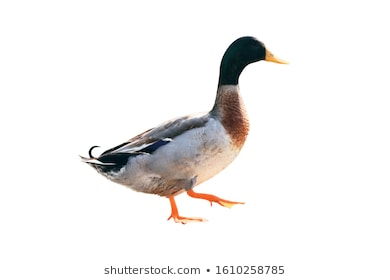duck: (60, 11, 291, 236)
